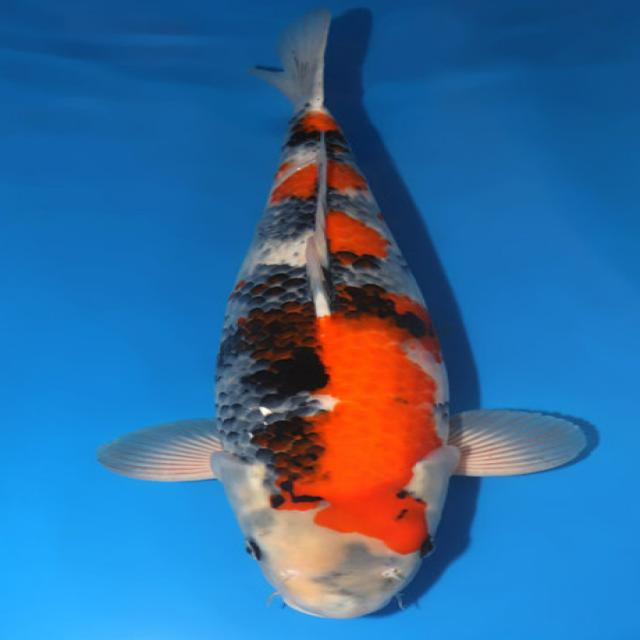Showa: (95, 7, 592, 620)
